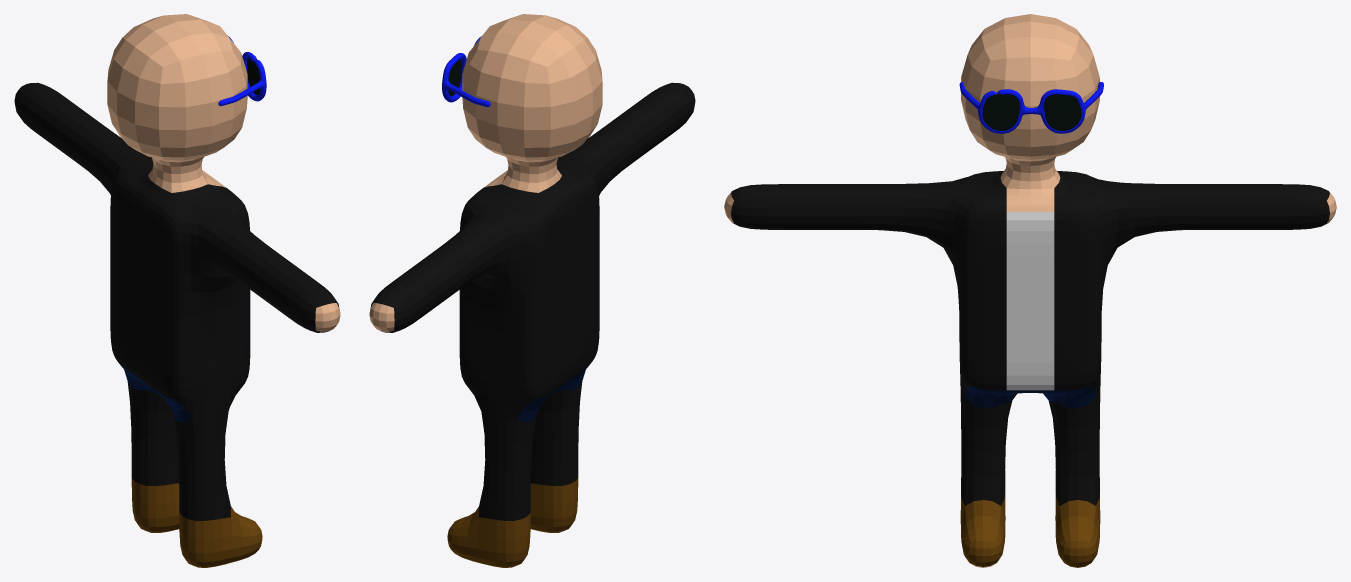
File: modelo_personaje.fbx
The picture shows the model from 3 angles, left to right: view 1: azimuth 30°, elevation 25°; view 2: azimuth 150°, elevation 25°; view 3: azimuth 270°, elevation 25°; orthographic projection.
Visible parts, largest first — view 1: Cuerpo, Lentes; view 2: Cuerpo, Lentes; view 3: Cuerpo, Cristal, Lentes.
Boxes of the visible parts, left/top/right/bottom form: Cuerpo: left=14, top=14, right=340, bottom=567; Lentes: left=218, top=36, right=266, bottom=105; Cuerpo: left=369, top=14, right=695, bottom=567; Lentes: left=442, top=36, right=490, bottom=107; Cuerpo: left=724, top=14, right=1336, bottom=567; Cristal: left=982, top=94, right=1081, bottom=130; Lentes: left=959, top=82, right=1103, bottom=133.
Bounding box in the file's own units: 607 × 2451 × 2588.
